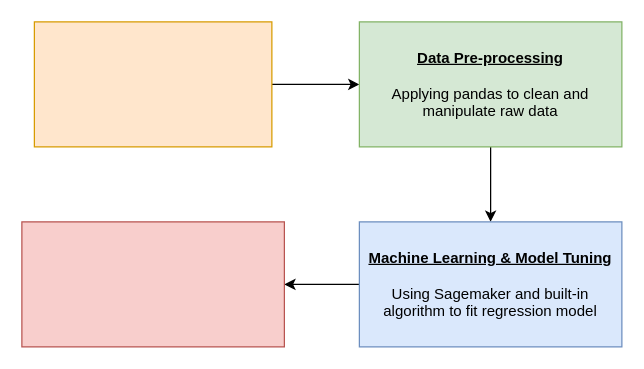
Image size: 644x369. Some labels were removed from this diagram. The shapes that lost their labels are listed below. From the top down, each one's box as (x1, y1, x2, y2) in pixels, then its label:
(33, 21, 272, 147): Raw Data Using beautiful soup to web scrapping house transaction data
(21, 221, 284, 347): Result Showcasing Employing ipywidget to filter and visualize final output
